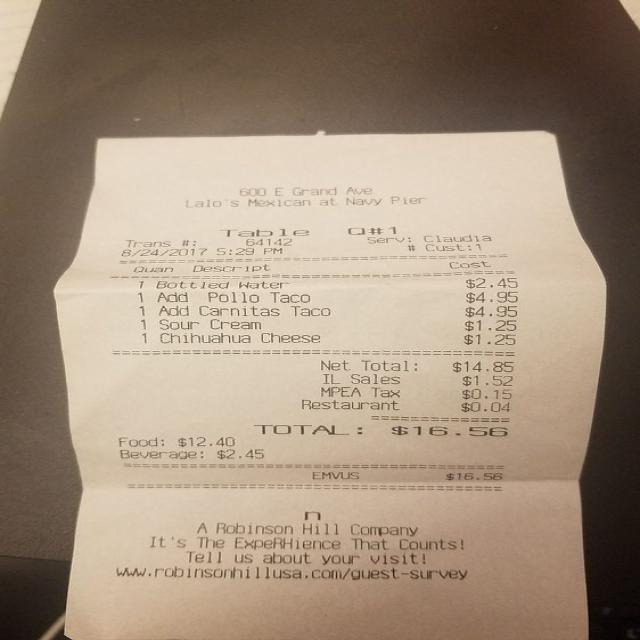TotalPrice: (243, 412, 543, 456)
